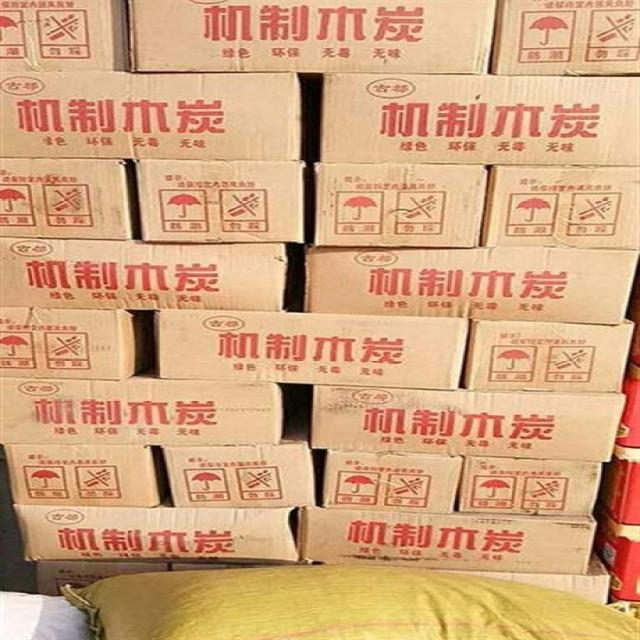box: (319, 74, 640, 166), (129, 0, 498, 74), (0, 71, 302, 161), (303, 245, 640, 325), (156, 309, 467, 390), (310, 384, 626, 462), (0, 236, 289, 311), (0, 370, 285, 444), (296, 504, 598, 573), (13, 496, 299, 564), (314, 161, 490, 249), (135, 159, 305, 243), (484, 165, 640, 249), (161, 424, 316, 507), (465, 318, 636, 391), (0, 307, 154, 379), (493, 0, 637, 75), (0, 158, 132, 239), (1, 444, 170, 507), (0, 0, 131, 71), (320, 449, 465, 512), (459, 457, 604, 516), (458, 551, 609, 605), (35, 560, 166, 595), (595, 517, 640, 602), (612, 326, 640, 460), (595, 459, 640, 536), (173, 562, 292, 571)
